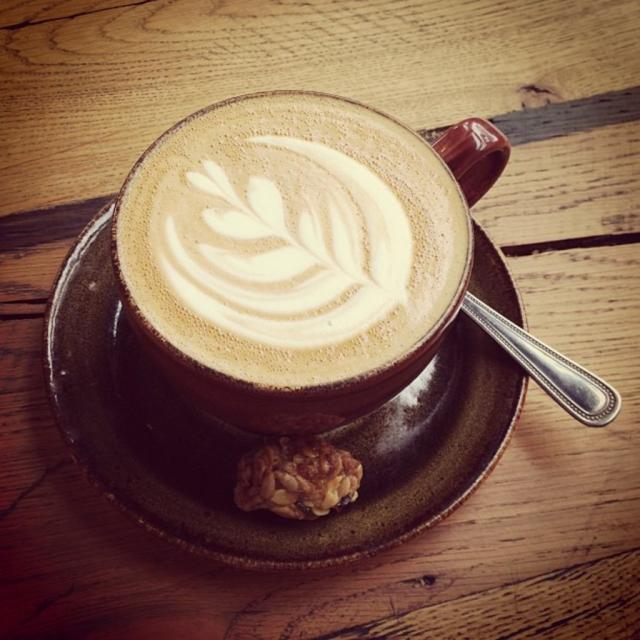Coffee: (120, 94, 468, 390)
